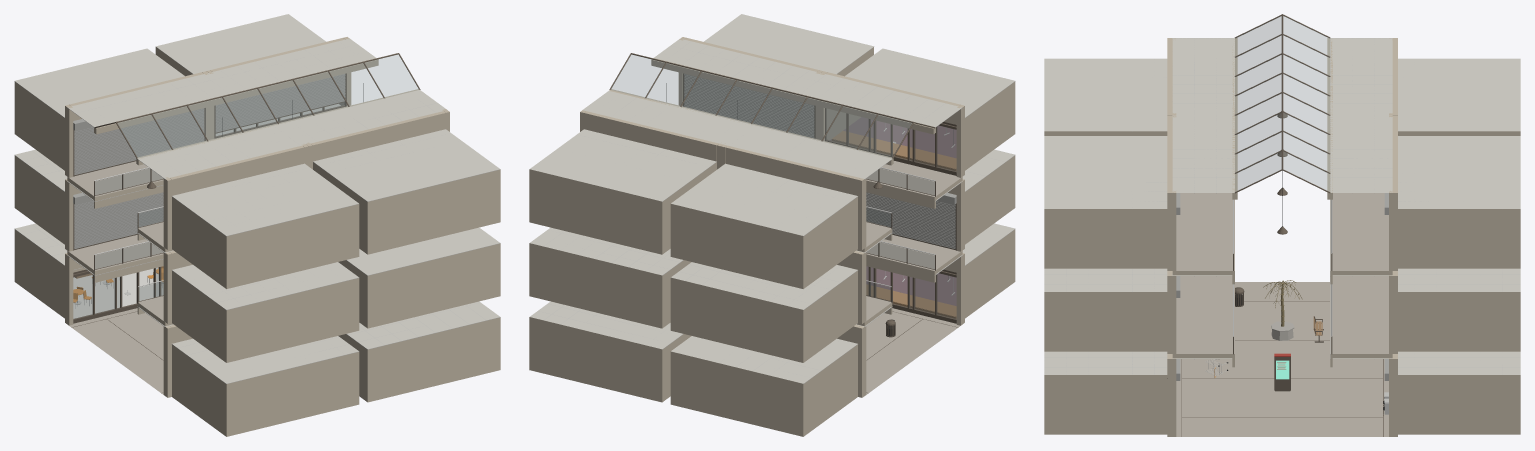
File: concourse_d.glb
The picture shows the model from 3 angles, left to right: view 1: azimuth 30°, elevation 25°; view 2: azimuth 150°, elevation 25°; view 3: azimuth 270°, elevation 25°; orthographic projection. The views are drawn at different scales.
Visible parts, largest first — view 1: concourse_d; view 2: concourse_d; view 3: concourse_d.
Boxes of the visible parts, x1=… form: concourse_d: x1=14, y1=14, x2=500, y2=436; concourse_d: x1=529, y1=14, x2=1015, y2=436; concourse_d: x1=1044, y1=14, x2=1520, y2=436.
Size of what is drawn, in the model's own units: 20.07 by 16.15 by 26.01.
